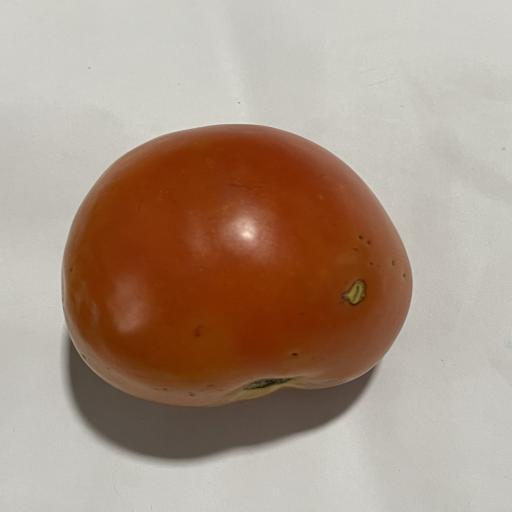ripe: (62, 125, 412, 406), (234, 218, 258, 240)
